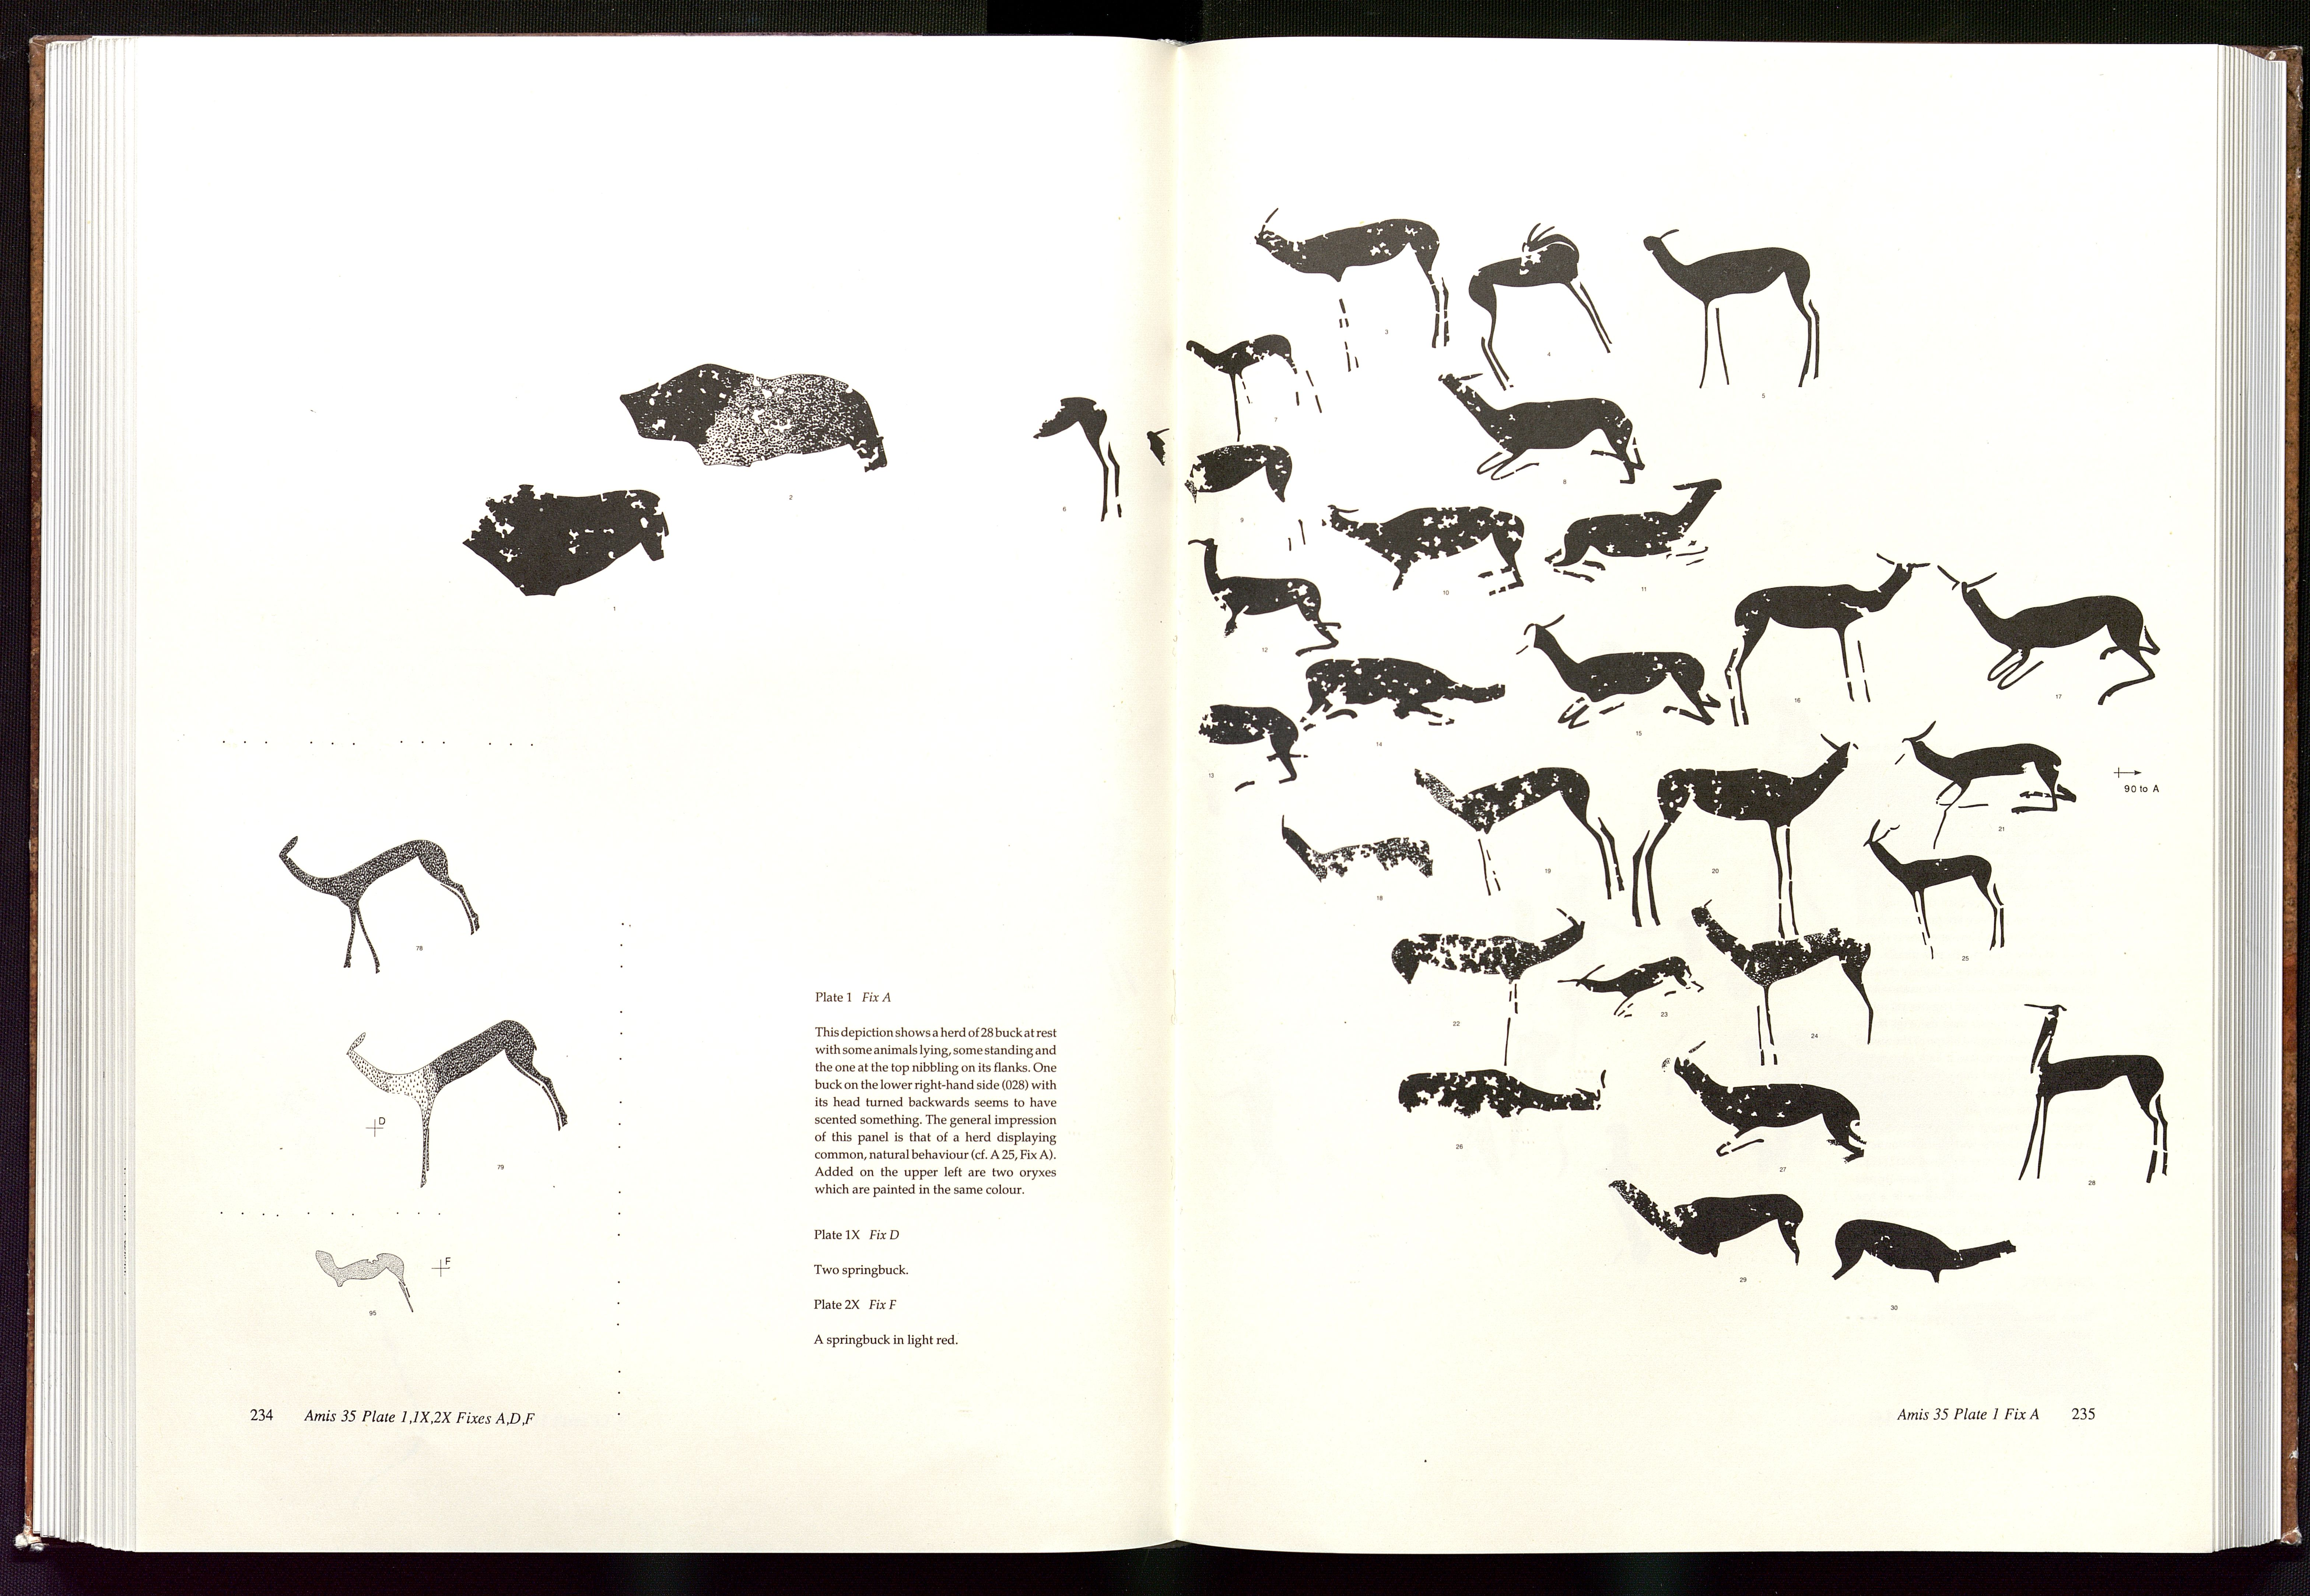animal: (1631, 732, 1866, 952), (335, 1018, 579, 1189), (1927, 558, 2170, 720), (1399, 757, 1638, 911), (1718, 551, 1936, 720), (2003, 994, 2180, 1197), (1643, 219, 1843, 399), (1257, 197, 1460, 369), (265, 830, 493, 978), (1654, 1034, 1885, 1169), (1455, 223, 1627, 393), (1431, 362, 1659, 488), (1859, 816, 2040, 960), (1394, 902, 1596, 1031), (1315, 495, 1546, 597), (1606, 1168, 1819, 1278), (1824, 1203, 2034, 1310), (1178, 525, 1350, 655), (1883, 729, 2106, 827), (1548, 474, 1741, 583), (1183, 327, 1348, 451), (1399, 1052, 1631, 1139), (1560, 948, 1718, 1025), (314, 1243, 425, 1317)
